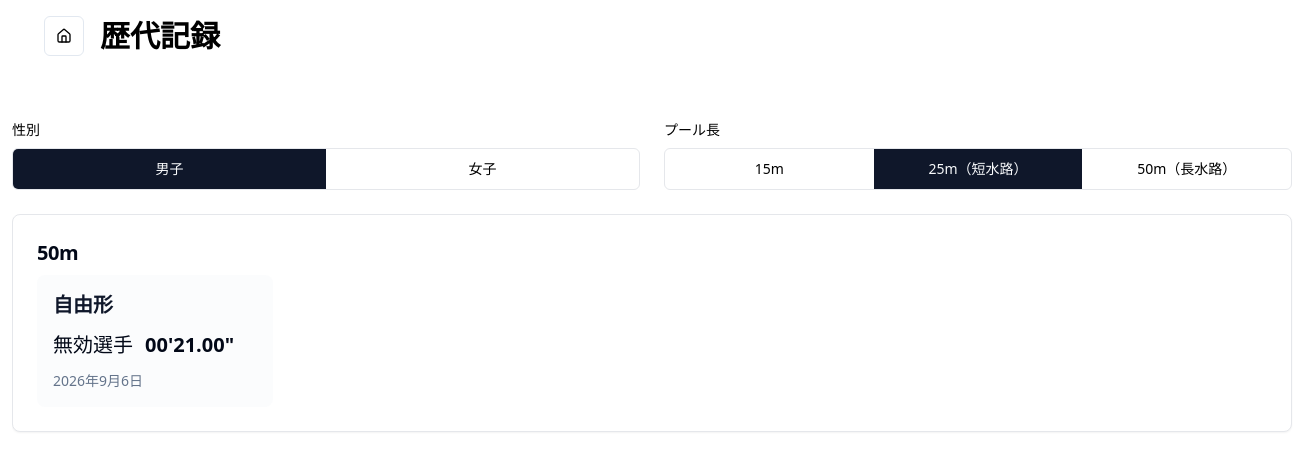
Test: shows retained all-time records from their dedicated API and supports gender/course filters
Expected: the text "無効選手" is shown, [53, 331, 133, 359]
Expected: the text "00'21.00\"" is shown, [145, 331, 234, 359]
Click the button "50m（長水路）" at (1187,169), box [1082, 149, 1291, 189]
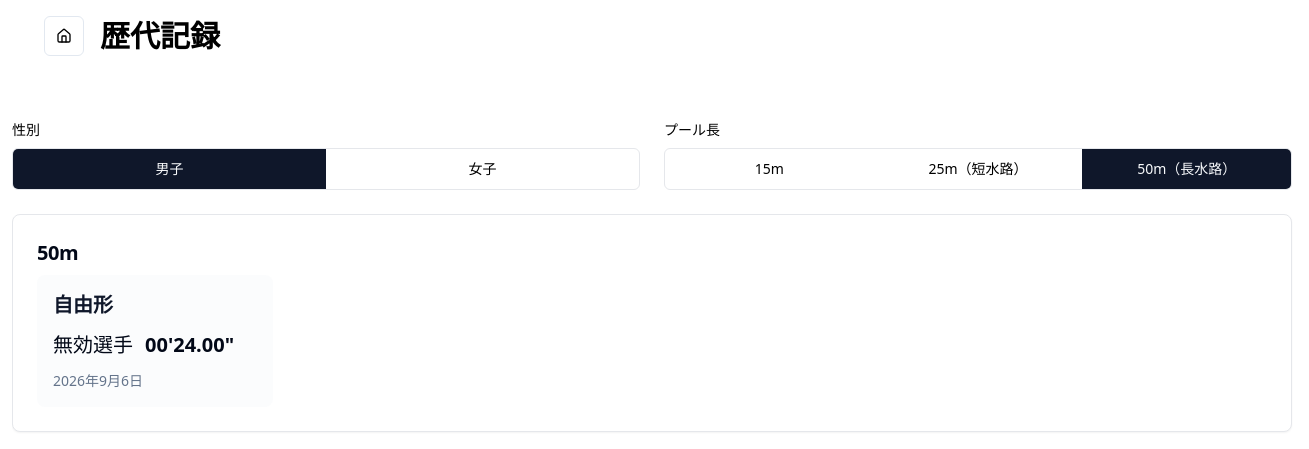
Now the text "00'24.00\"" is shown, box [145, 331, 234, 359]
Click the button "25m（短水路）" at (978,169), box [874, 149, 1082, 189]
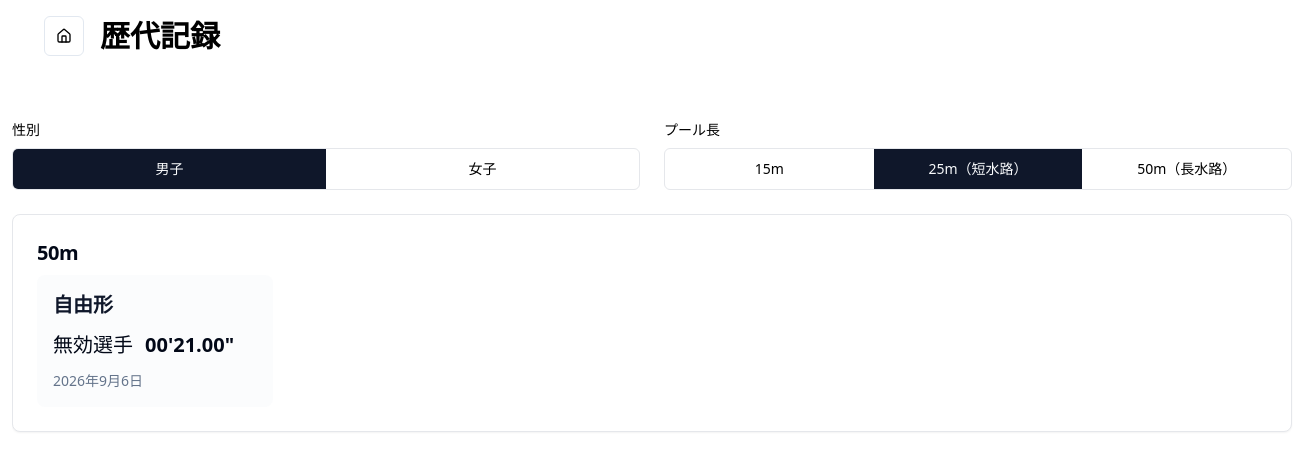
Click the button "女子" at (482,169), box [326, 149, 639, 189]
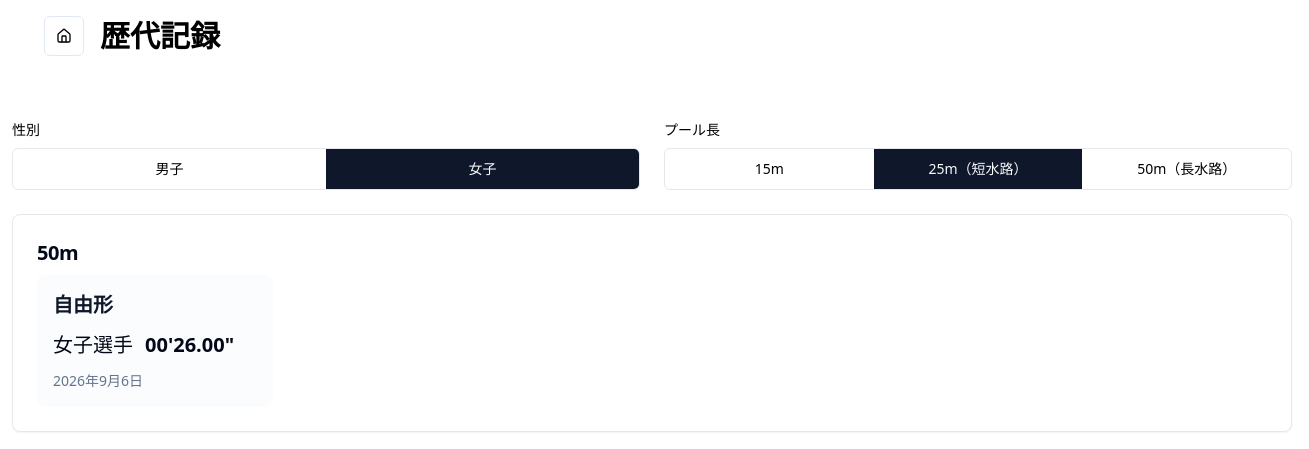
Now the text "女子選手" is shown, box [53, 331, 133, 359]
Now the text "無効選手" is gone
